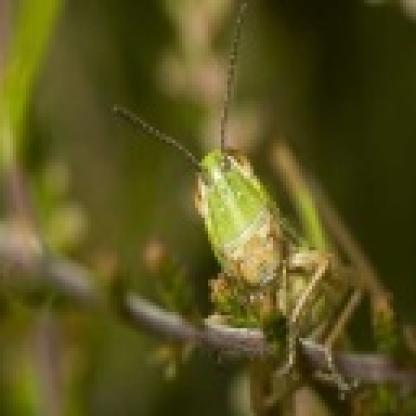grasshopper: (134, 70, 388, 400)
